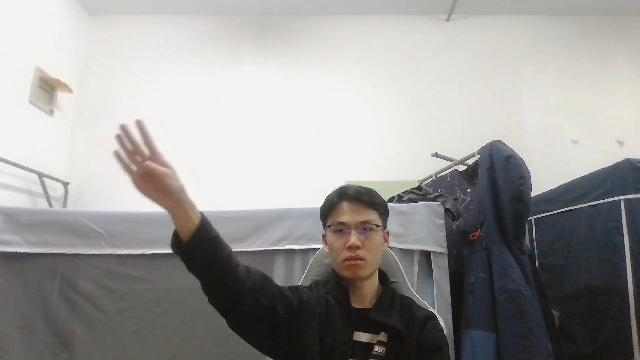four: (111, 118, 189, 212)
